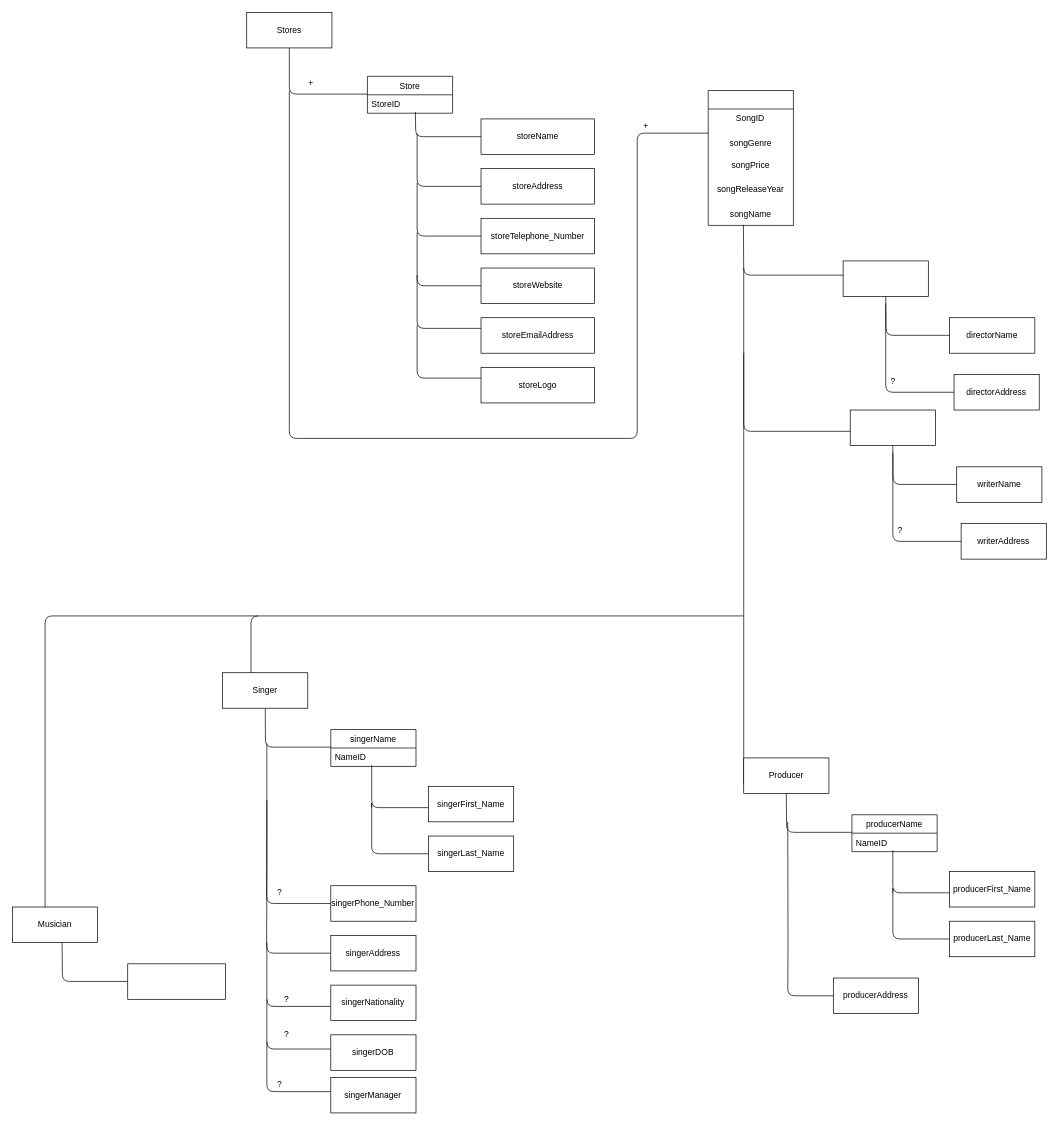
Image size: 1059x1125. Some labels were removed from this diagram. The shapes that lost their labels are listed below. From the top down, each one's box as (x1, y1, x2, y2) in pixels, then its label:
(708, 90, 793, 225): Songs
(842, 260, 928, 296): Director
(850, 409, 935, 446): Writer
(127, 963, 225, 999): musicianName
